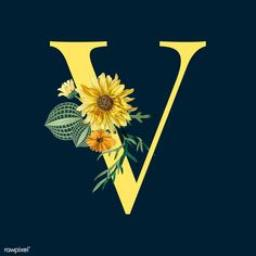v: (34, 31, 208, 229)
